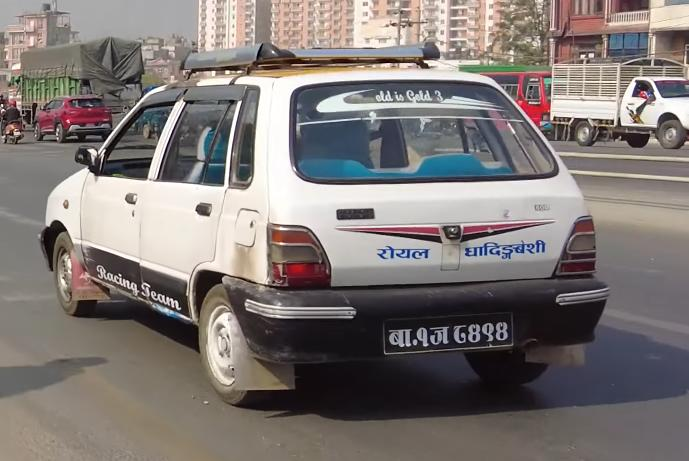bus: (465, 65, 567, 135)
car: (32, 90, 118, 147)
scooter: (0, 109, 27, 146)
taxi: (34, 37, 614, 413)
transport_vehicle: (547, 56, 689, 153)
truck: (3, 34, 147, 118)
